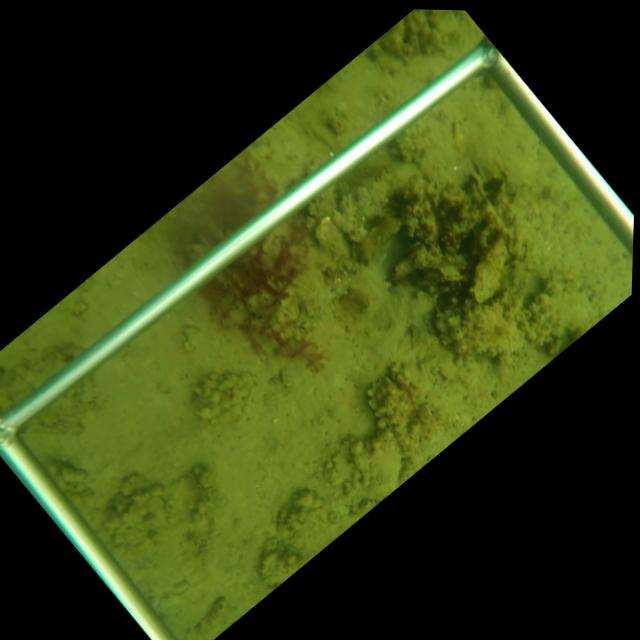Oyster-Closed: (467, 229, 515, 307)
Oyster-Indeterminate: (358, 424, 406, 504)
Oyster-Open: (465, 170, 491, 206)
